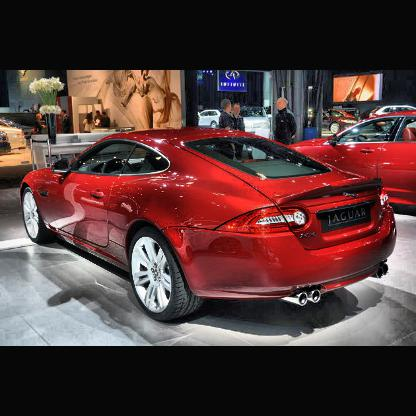Jaguar XK XKR 2012: (20, 127, 399, 326)
